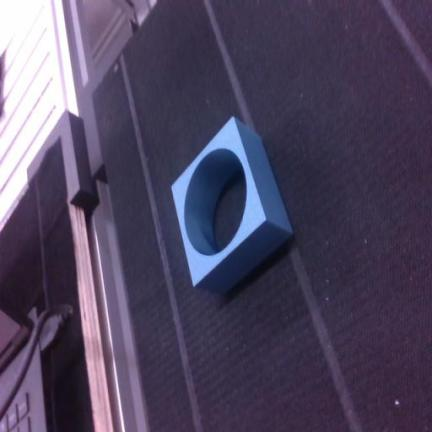square: (171, 117, 292, 291)
